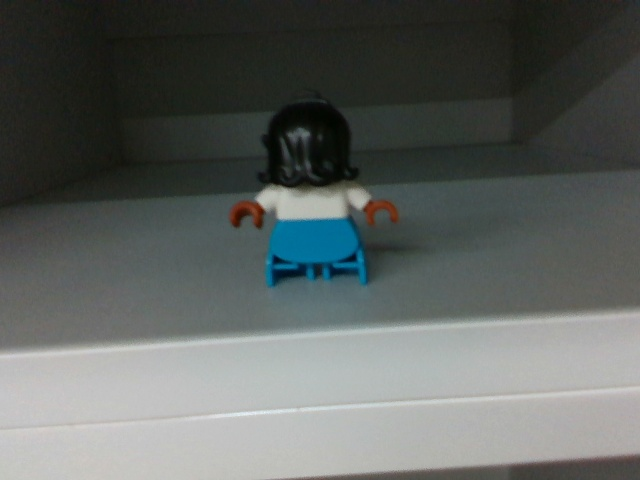people: (224, 105, 396, 293)
